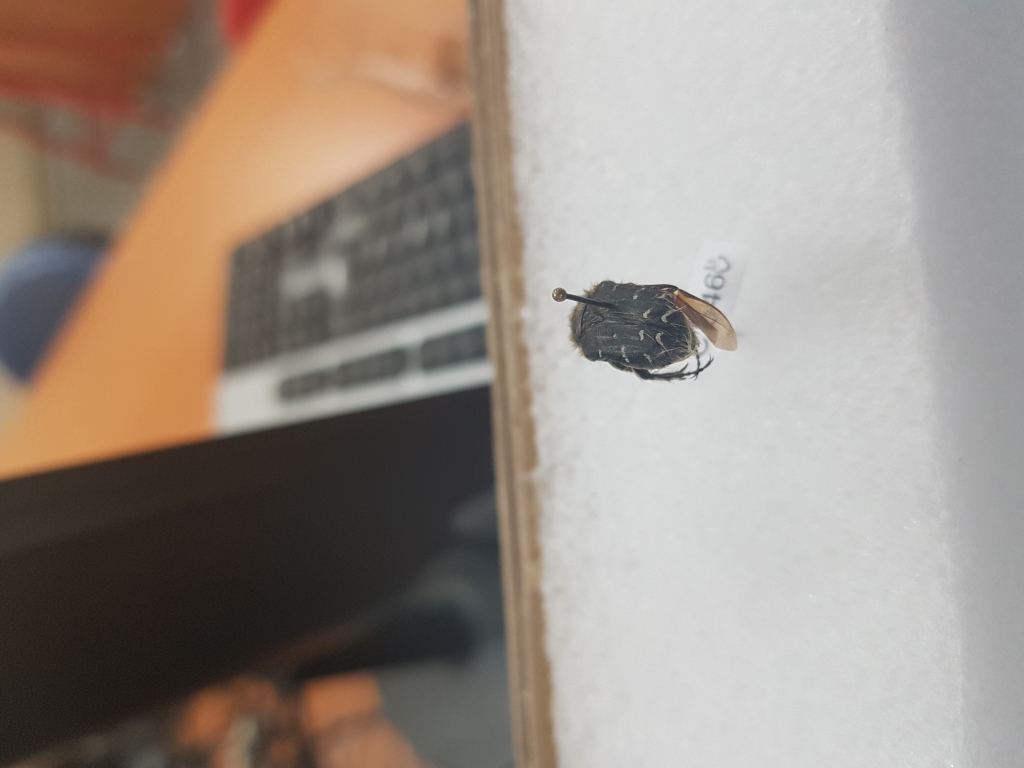Tropinota_senicula: (554, 257, 735, 397)
